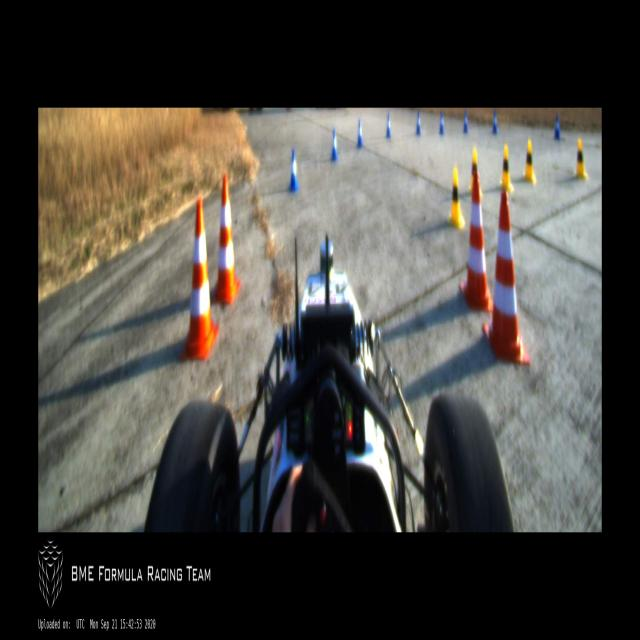blue_cone: (288, 150, 300, 192), (330, 128, 338, 162), (553, 115, 560, 140), (357, 120, 363, 148), (386, 114, 392, 138), (438, 112, 444, 134), (416, 111, 421, 135), (492, 111, 497, 134), (463, 111, 468, 132)
large_orange_cone: (483, 189, 529, 363), (179, 196, 219, 362), (459, 172, 493, 312), (211, 174, 241, 306)
yellow_cone: (448, 166, 464, 229), (468, 147, 482, 196), (499, 145, 513, 192), (573, 137, 587, 180), (522, 140, 536, 182)
